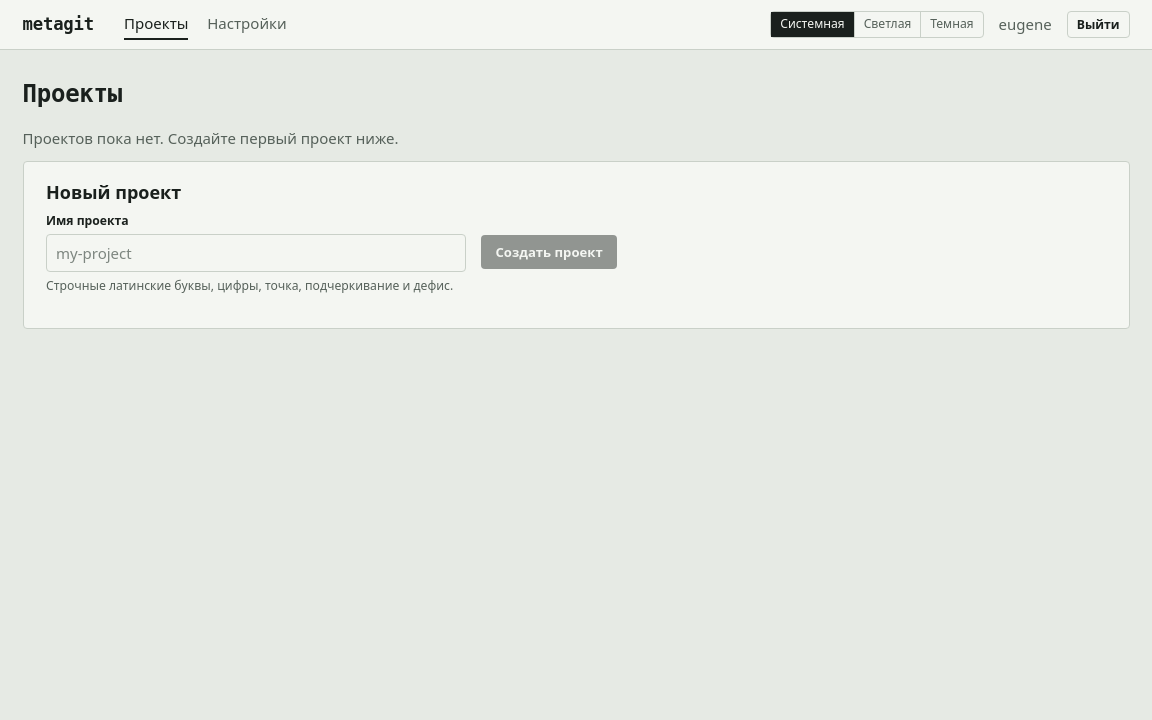
Scenario: theme switch › the login page keeps the chosen mode after logout
The width and height of the screenshot is (1152, 720).
Click the radio button labelled "Темная" at (951, 24), box top-left (920, 12), bottom-right (983, 36)
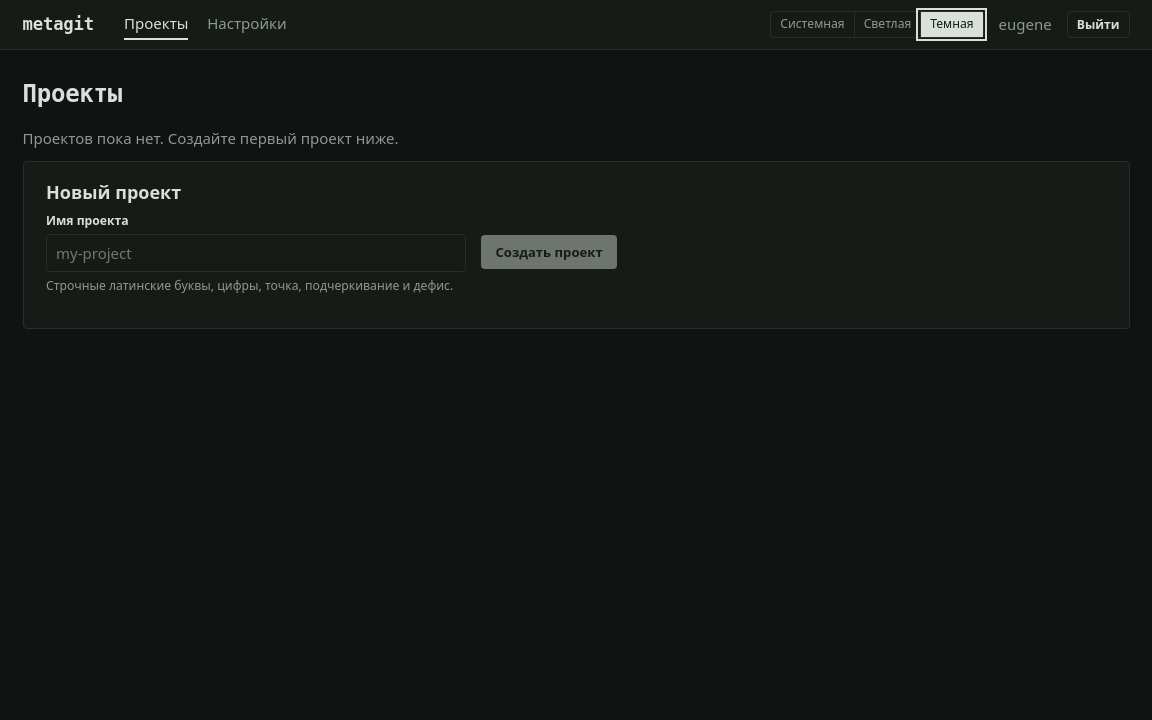
Click the button "Выйти" at (1098, 24), box top-left (1067, 11), bottom-right (1130, 38)
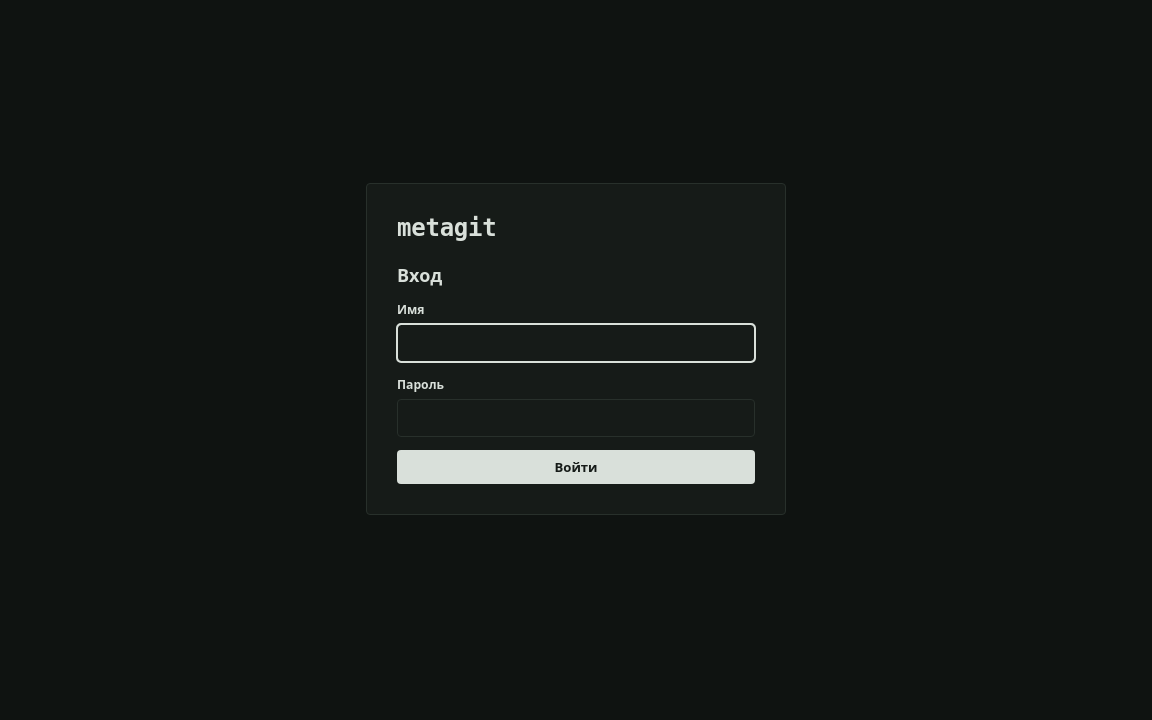
Check: the element "Тема" is not shown
Check: the button "Войти" is shown, box top-left (397, 450), bottom-right (755, 484)
